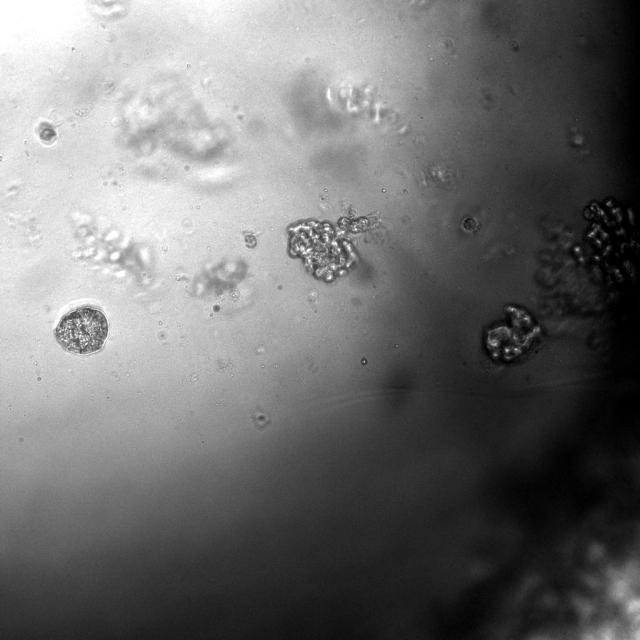organoid: (534, 197, 639, 350), (288, 209, 375, 282), (485, 306, 541, 363), (55, 306, 108, 354), (37, 121, 57, 143)
